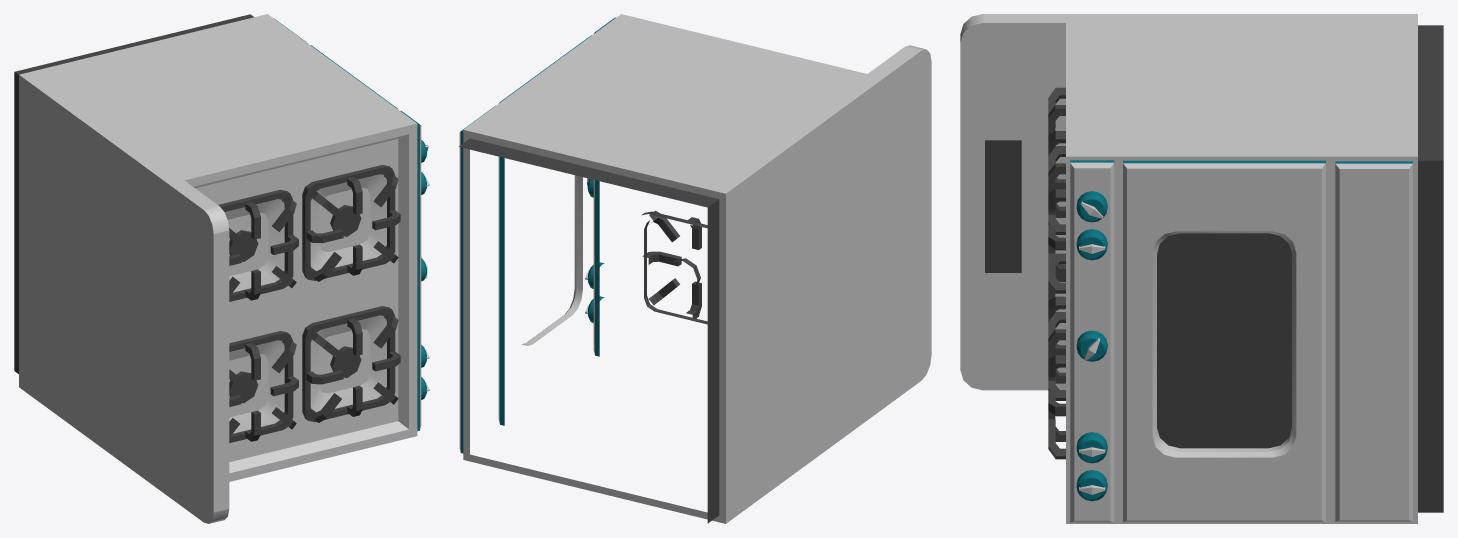
Rendered from stove.glb.
The picture shows the model from 3 angles, left to right: view 1: azimuth 30°, elevation 25°; view 2: azimuth 150°, elevation 25°; view 3: azimuth 270°, elevation 25°; orthographic projection. The views are drawn at different scales.
Parts seen in each view (by area): view 1: stove; view 2: stove; view 3: stove.
Part boxes in pixels (x1,y1,x2,y2): stove: (14, 14, 429, 523); stove: (459, 14, 931, 523); stove: (960, 14, 1443, 523).
Bounding box in the file's own units: 1.04 × 1.16 × 1.38.
